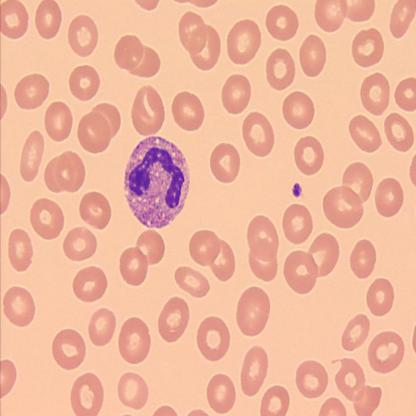Segmented neutrophil: (121, 133, 192, 231)
